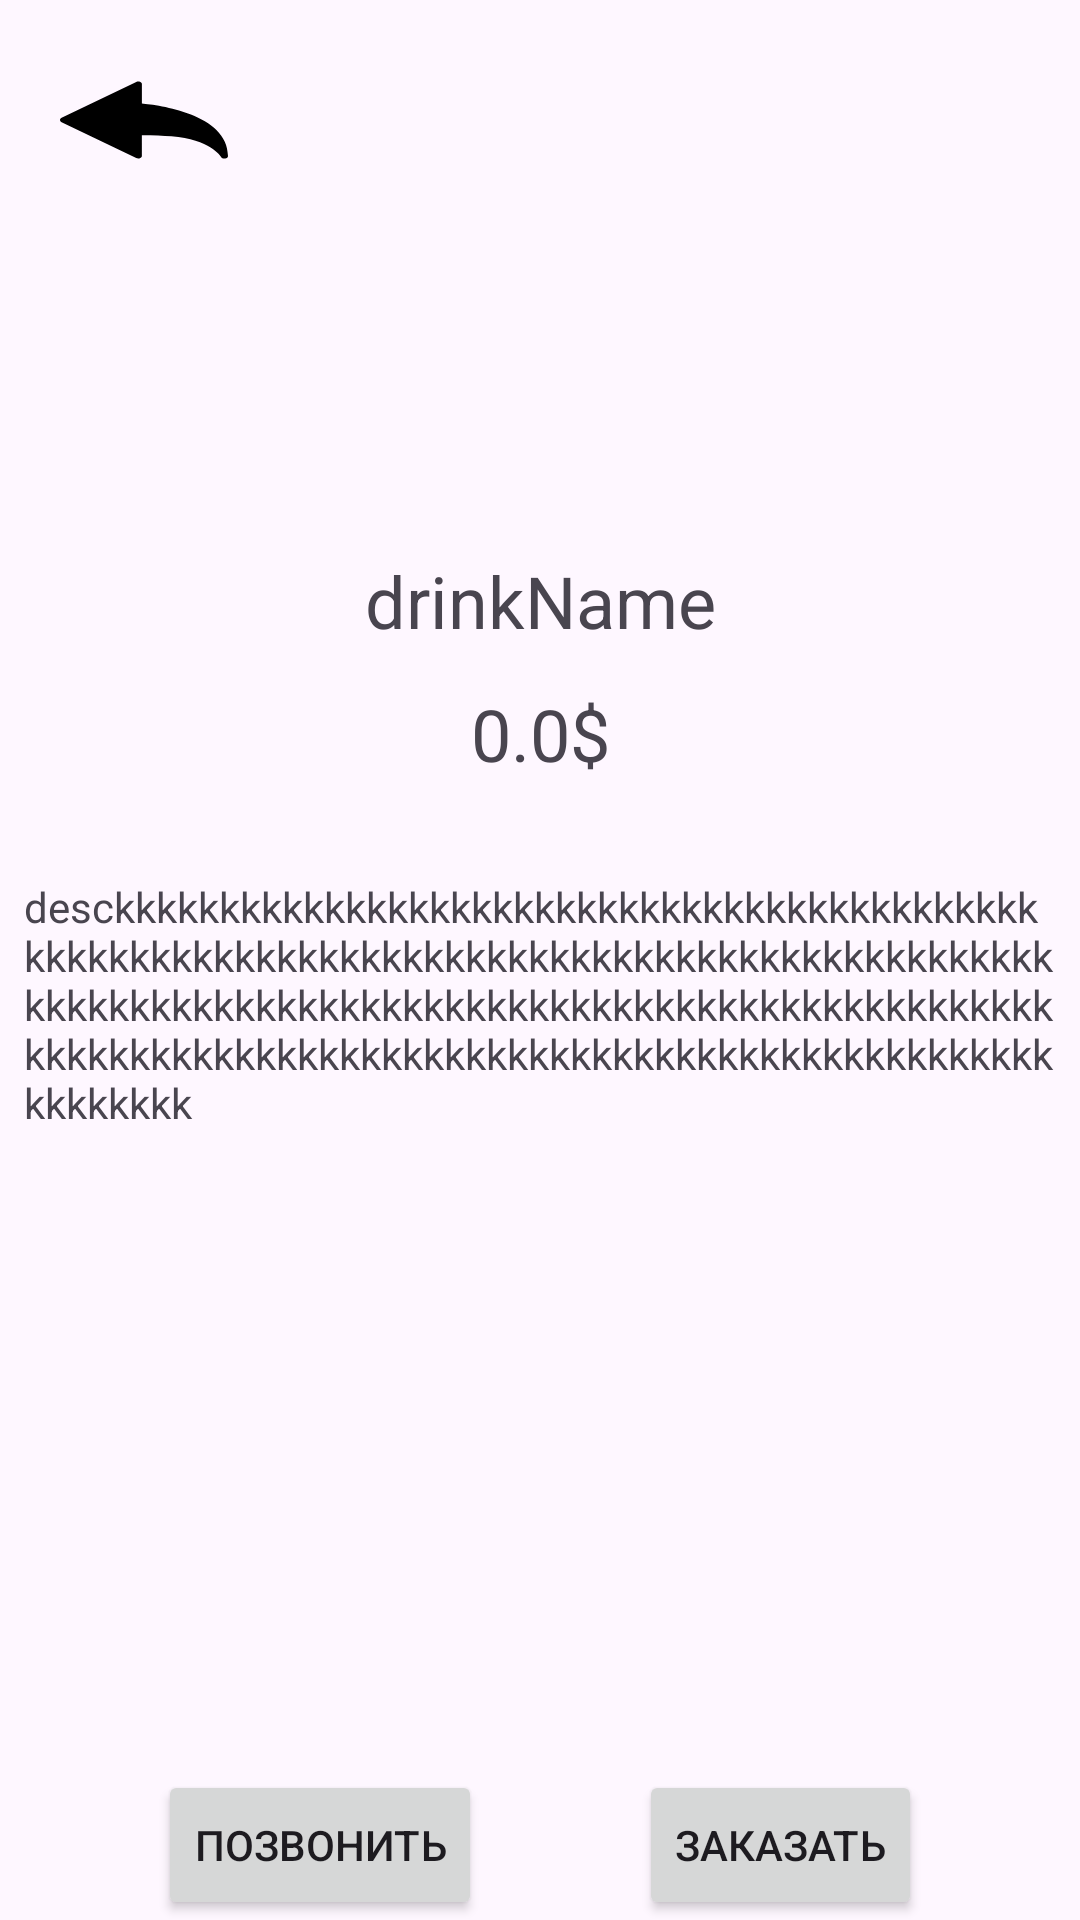

Where to tap for icons on this 1080px×1920px app screen, as [x,y]:
back arrow: [144,120]
